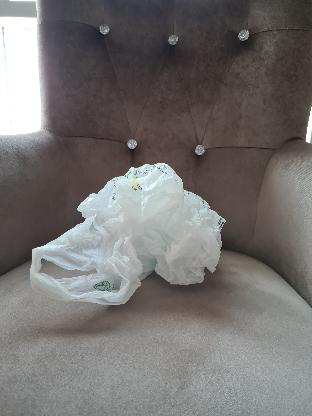Plastic Bag: (31, 164, 225, 308)
